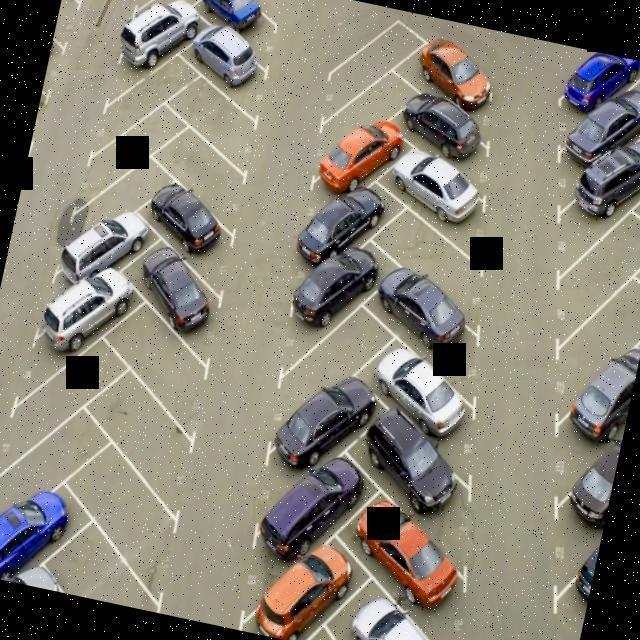car: (340, 476, 491, 628), (361, 240, 499, 384), (253, 353, 392, 490), (350, 393, 484, 524), (239, 508, 370, 640), (15, 246, 149, 370), (355, 314, 484, 440), (244, 437, 368, 568), (280, 163, 406, 288), (543, 322, 640, 483), (265, 223, 393, 344), (125, 235, 245, 364), (386, 130, 514, 243), (539, 131, 640, 270), (394, 13, 510, 125), (140, 171, 253, 280), (302, 102, 413, 211), (544, 75, 640, 198), (386, 85, 502, 182), (180, 8, 286, 113), (555, 404, 627, 552), (54, 197, 162, 295), (0, 467, 82, 591), (536, 42, 640, 137), (104, 0, 210, 88), (550, 500, 607, 640), (341, 577, 464, 640), (189, 0, 291, 63), (42, 10, 81, 94), (0, 552, 71, 593), (31, 62, 64, 144), (570, 579, 592, 640)
free: (50, 422, 198, 590), (255, 273, 408, 431), (88, 287, 226, 447), (0, 306, 139, 463), (80, 368, 212, 526), (0, 379, 123, 530), (370, 182, 508, 312), (541, 208, 640, 352), (542, 261, 640, 403), (45, 511, 179, 614), (146, 122, 270, 233), (75, 86, 194, 200), (84, 35, 201, 146), (159, 66, 279, 172), (61, 135, 170, 245), (308, 46, 420, 152), (320, 7, 418, 113), (110, 0, 214, 42), (51, 0, 99, 52), (19, 116, 44, 200)
